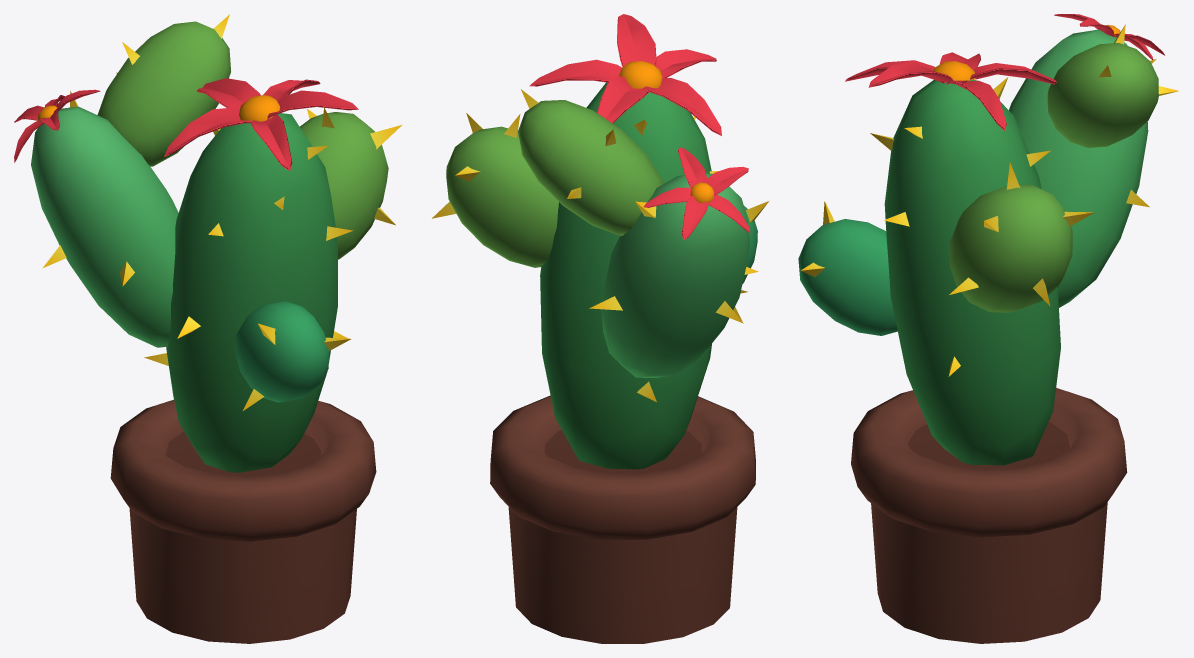
File: cactus_001.fbx
The picture shows the model from 3 angles, left to right: view 1: azimuth 30°, elevation 25°; view 2: azimuth 150°, elevation 25°; view 3: azimuth 270°, elevation 25°; orthographic projection. The views are drawn at different scales.
Parts seen in each view (by area): view 1: cactus_001; view 2: cactus_001; view 3: cactus_001.
Part boxes in pixels (left/top/right/bottom): cactus_001: left=14, top=14, right=401, bottom=643; cactus_001: left=432, top=14, right=768, bottom=643; cactus_001: left=798, top=14, right=1178, bottom=643.
Bounding box in the file's own units: 67.34 × 63.54 × 102.
